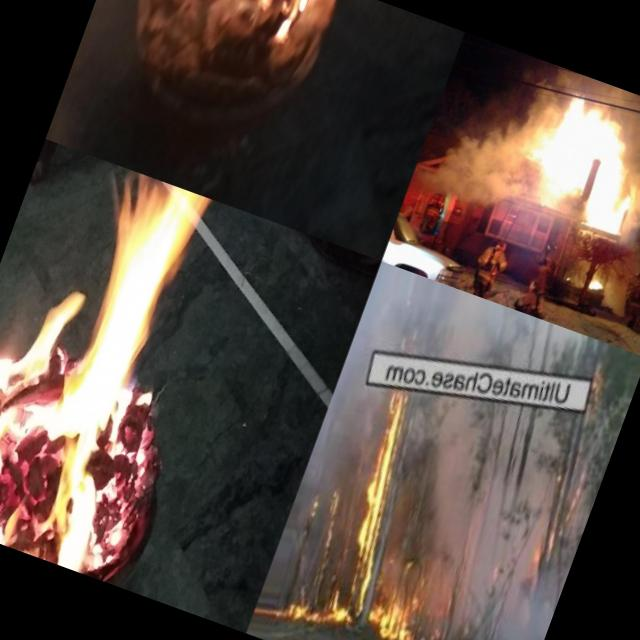fire: (0, 148, 235, 580), (283, 387, 493, 640), (117, 0, 324, 63), (529, 86, 616, 209), (580, 120, 640, 239), (585, 273, 608, 296)
smoke: (402, 431, 594, 640), (422, 53, 566, 222), (618, 120, 640, 266)
